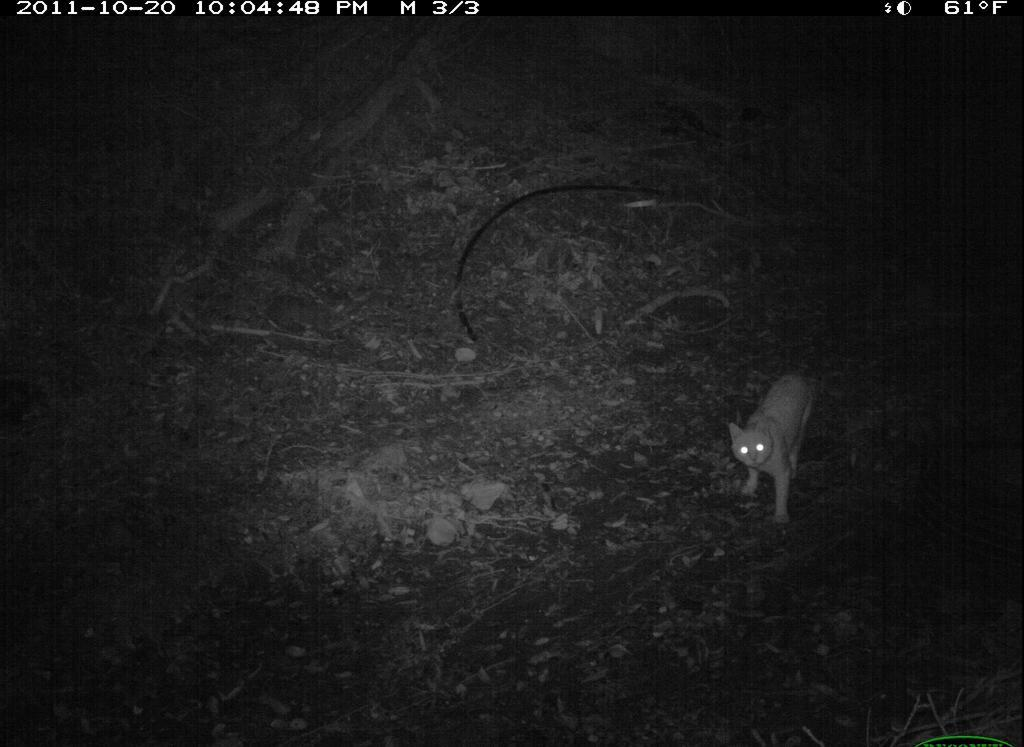cat: (721, 367, 831, 529)
